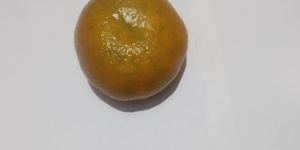BAD: (61, 1, 206, 109)
